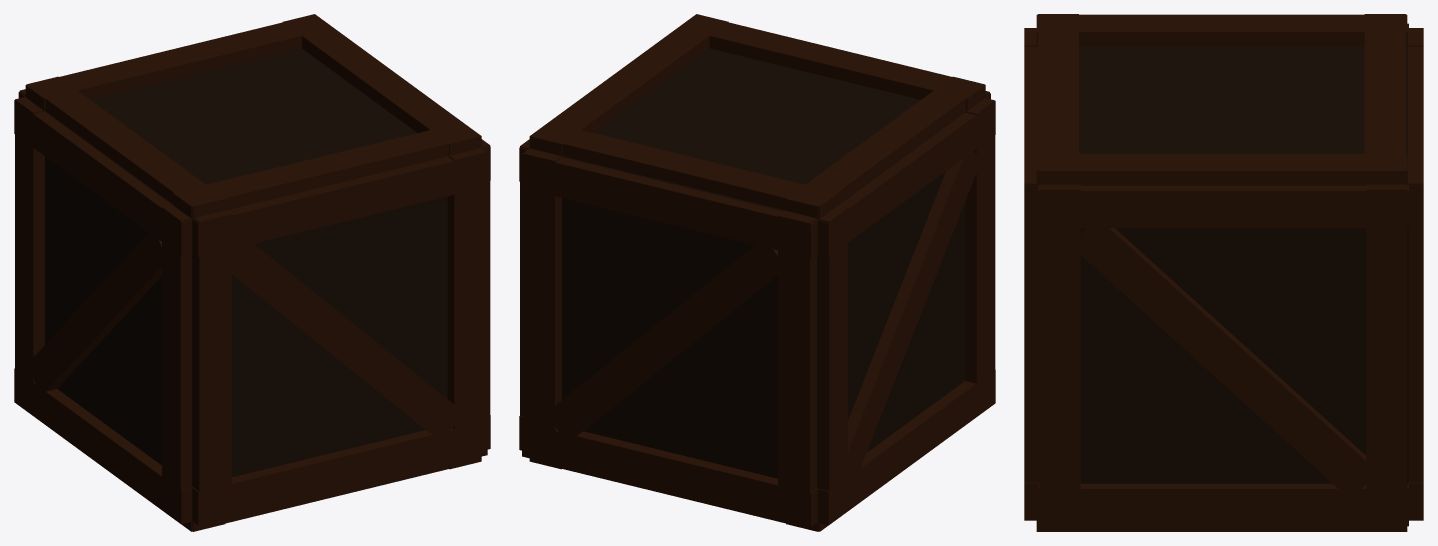
File: Crate.fbx
The picture shows the model from 3 angles, left to right: view 1: azimuth 30°, elevation 25°; view 2: azimuth 150°, elevation 25°; view 3: azimuth 270°, elevation 25°; orthographic projection. The views are drawn at different scales.
Parts seen in each view (by area): view 1: Crate; view 2: Crate; view 3: Crate.
Boxes of the visible parts, bbox=[...] form: Crate: bbox=[14, 14, 490, 531]; Crate: bbox=[519, 14, 995, 531]; Crate: bbox=[1024, 14, 1423, 531].
Bounding box in the file's own units: 42.97 × 43.15 × 43.23.
